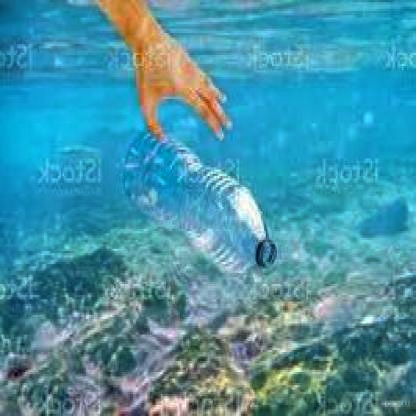pbottle: (116, 128, 280, 275)
